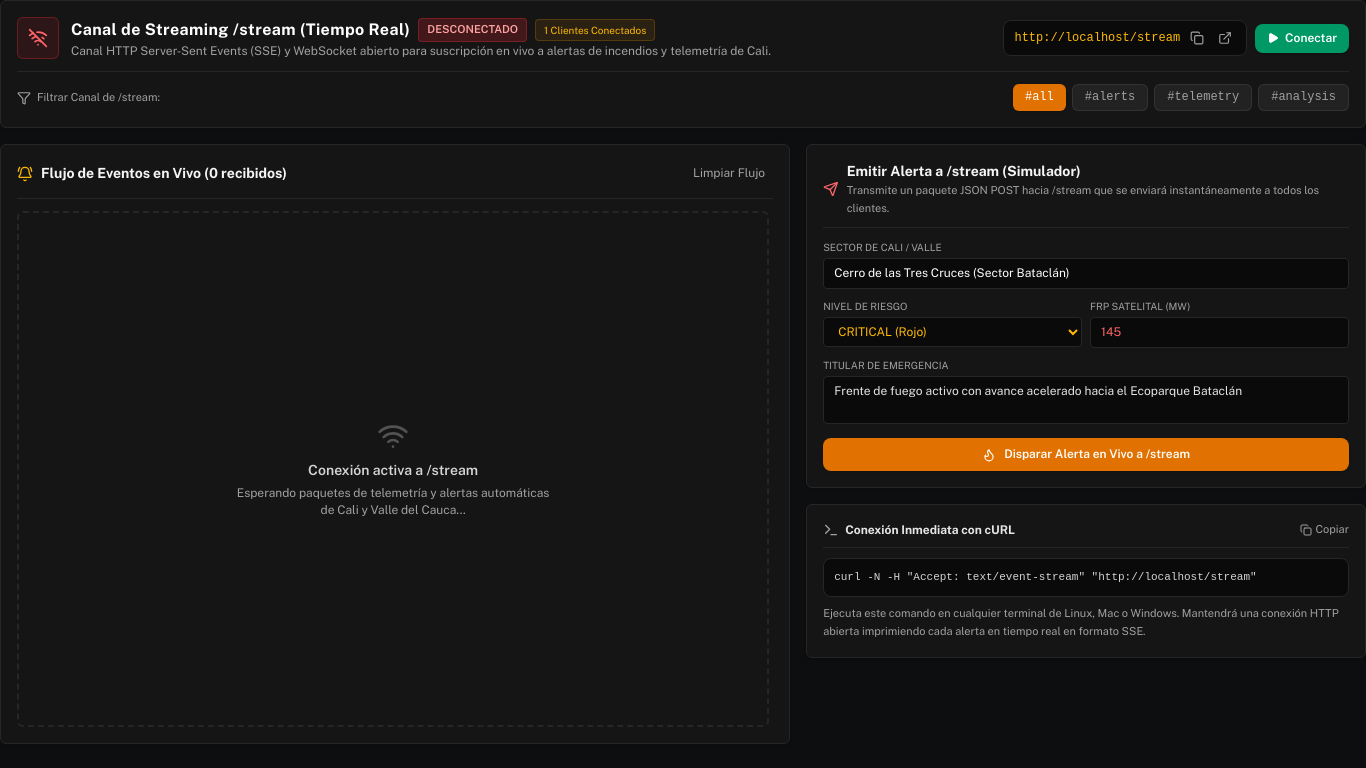
StreamLiveChannel › ante un 429 del rate limit muestra el detalle del error, no éxito
This screenshot has width=1366, height=768.
Click the button "Disparar Alerta en Vivo a /stream". click: (1086, 455)
box: top-left (823, 438), bottom-right (1349, 471)
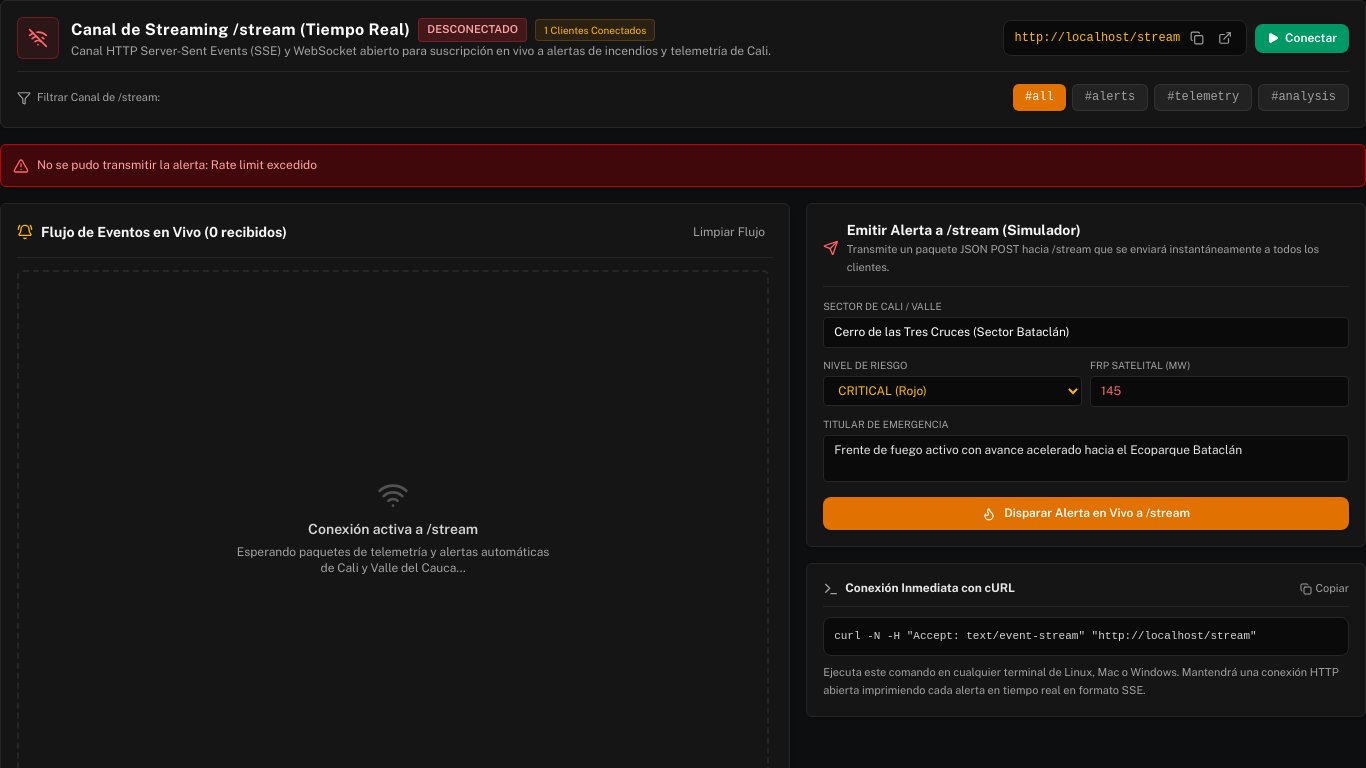
expect the message reads "No se pudo transmitir la alerta: Rate limit excedido": met, box top-left (37, 158), bottom-right (317, 172)
